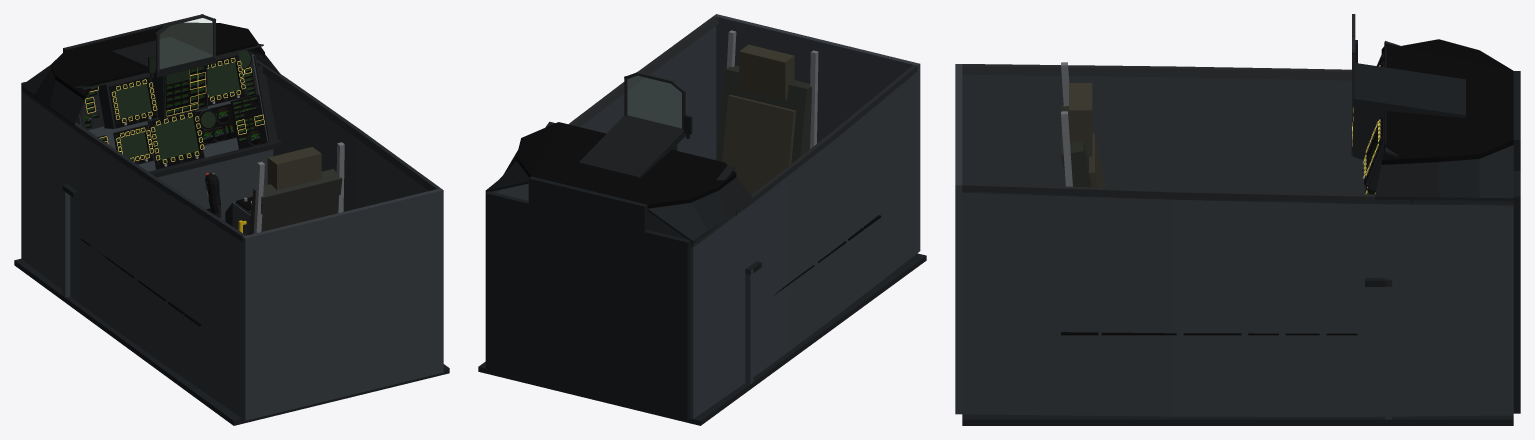
File: cockpit_fa18e.glb
3 views of the same model, side by side, from view 1: azimuth 30°, elevation 25°; view 2: azimuth 150°, elevation 25°; view 3: azimuth 270°, elevation 25° (orthographic). The views are drawn at different scales.
Parts seen in each view (by area): view 1: panel_grey.005, panel_grey.003, panel_grey.004, black, seat_95, dark.016, dark.028, hud_glass_69, frame.001, panel_grey.007, frame, cushion_97 (+21 smaller); view 2: panel_grey.003, dark, panel_grey.005, panel_grey.004, black, cushion_96, dark.028, dark.001, dark.016, seat_95, cushion_97, hud_glass_69 (+10 smaller); view 3: panel_grey.004, panel_grey.003, black, dark.016, frame.001, dark.028, frame, panel_grey.005, black.002, dark.007, dark, dark.006 (+9 smaller).
Part boxes in pixels (left/top/right/bottom): panel_grey.005: left=242, top=188, right=443, bottom=420; panel_grey.003: left=21, top=92, right=242, bottom=418; panel_grey.004: left=266, top=75, right=428, bottom=211; black: left=66, top=23, right=253, bottom=85; seat_95: left=248, top=169, right=342, bottom=234; dark.016: left=14, top=258, right=449, bottom=425; dark.028: left=111, top=36, right=215, bottom=77; hud_glass_69: left=160, top=18, right=212, bottom=68; frame.001: left=256, top=60, right=440, bottom=190; panel_grey.007: left=220, top=149, right=273, bottom=221; frame: left=21, top=86, right=245, bottom=241; cushion_97: left=267, top=147, right=321, bottom=189; panel_grey.003: left=690, top=71, right=917, bottom=418; dark: left=485, top=191, right=690, bottom=420; panel_grey.005: left=714, top=14, right=920, bottom=252; panel_grey.004: left=497, top=26, right=716, bottom=200; black: left=532, top=122, right=724, bottom=204; cushion_96: left=722, top=94, right=796, bottom=194; dark.028: left=579, top=115, right=685, bottom=179; dark.001: left=528, top=176, right=647, bottom=231; dark.016: left=478, top=253, right=926, bottom=425; seat_95: left=716, top=65, right=811, bottom=163; cushion_97: left=739, top=44, right=794, bottom=100; hud_glass_69: left=627, top=76, right=681, bottom=128; panel_grey.004: left=962, top=191, right=1513, bottom=416; panel_grey.003: left=962, top=74, right=1364, bottom=194; black: left=1386, top=43, right=1513, bottom=142; dark.016: left=962, top=414, right=1513, bottom=425; frame.001: left=962, top=183, right=1513, bottom=205; dark.028: left=1352, top=63, right=1465, bottom=117; frame: left=962, top=64, right=1351, bottom=80; panel_grey.005: left=955, top=64, right=962, bottom=414; black.002: left=1381, top=140, right=1513, bottom=164; dark.007: left=1375, top=162, right=1438, bottom=200; dark: left=1513, top=171, right=1520, bottom=413; dark.006: left=1479, top=145, right=1513, bottom=201.
Bounding box in the file's own units: 0.92 × 1.09 × 1.66.
30 materials, 6 textured.
